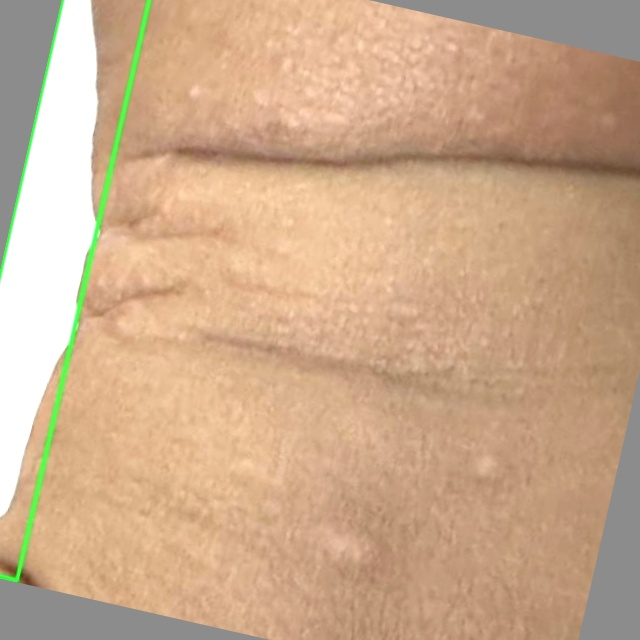Scabies: (0, 0, 149, 581)
